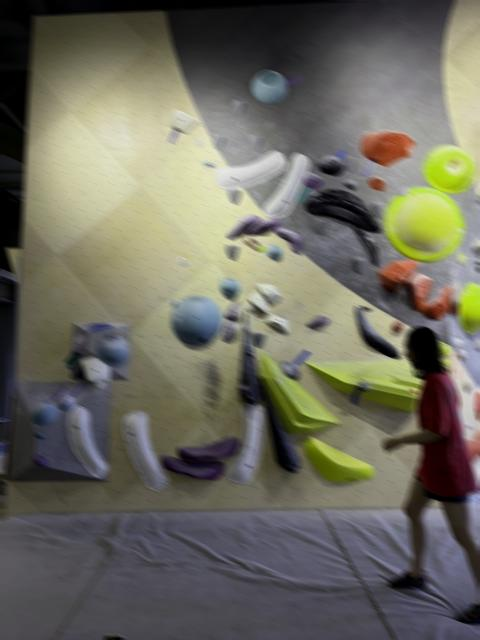crimp: (343, 178, 357, 189), (254, 242, 268, 252), (396, 188, 411, 195), (358, 381, 369, 390), (203, 161, 215, 166), (396, 275, 406, 281)
downhold: (312, 218, 328, 234), (370, 201, 386, 217), (211, 133, 225, 149), (252, 332, 266, 347), (232, 99, 245, 115), (351, 258, 365, 272), (249, 135, 262, 150), (343, 156, 356, 171), (225, 246, 239, 259), (229, 189, 241, 204)
jib: (34, 453, 50, 466), (194, 137, 206, 147), (178, 256, 189, 266), (35, 431, 45, 438), (171, 301, 179, 307), (410, 389, 417, 393)
jug: (170, 109, 200, 132), (318, 156, 344, 175), (303, 172, 324, 188), (368, 178, 387, 189)
ledge: (215, 151, 287, 188), (360, 130, 415, 166), (161, 455, 225, 479), (177, 436, 240, 459), (252, 69, 288, 103), (306, 315, 330, 327)
pinch: (226, 214, 262, 238), (273, 228, 302, 253), (246, 218, 280, 235), (265, 314, 289, 332)
pocket: (423, 145, 475, 192)
sidepull: (122, 411, 169, 490), (225, 404, 266, 483), (263, 153, 310, 217), (68, 406, 108, 477), (355, 306, 400, 358), (353, 226, 378, 265), (257, 282, 282, 302), (222, 320, 238, 342), (225, 302, 241, 320)
sloper: (385, 188, 464, 260), (170, 296, 223, 346), (97, 334, 130, 366), (29, 400, 58, 424), (220, 277, 240, 296), (266, 244, 283, 261), (57, 395, 76, 410), (392, 321, 405, 331)
tape: (65, 352, 82, 369), (51, 386, 68, 401), (71, 381, 88, 396), (293, 350, 310, 364), (242, 239, 262, 250), (296, 186, 310, 201), (363, 160, 375, 176), (351, 387, 361, 404), (285, 76, 305, 84), (455, 360, 462, 379), (168, 130, 178, 143), (451, 350, 457, 371), (336, 149, 346, 158)
undercling: (305, 189, 382, 232), (377, 259, 418, 292), (248, 290, 268, 313), (280, 361, 300, 378)
volume: (8, 381, 110, 480), (260, 353, 339, 431), (306, 361, 422, 411), (261, 381, 300, 471), (70, 323, 130, 379), (238, 312, 262, 404)
